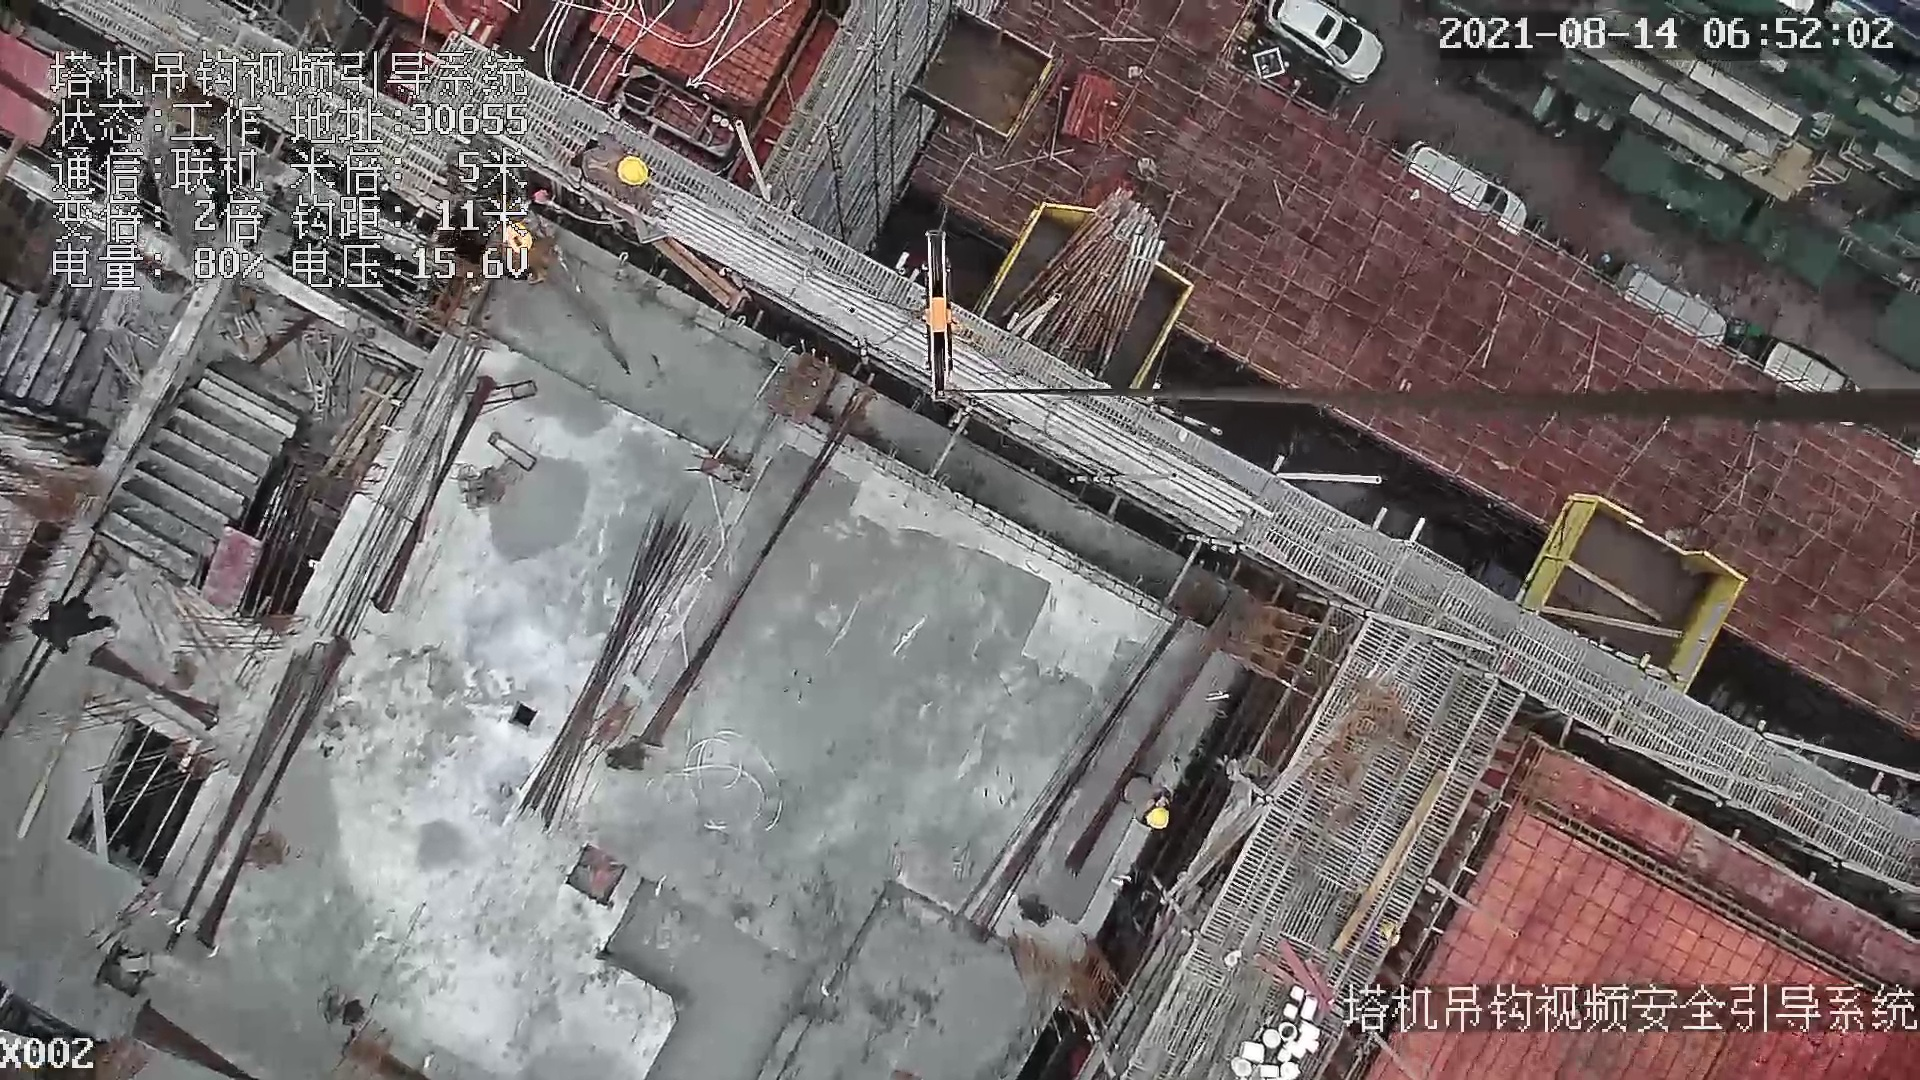helmet: (616, 154, 647, 186), (1146, 808, 1170, 829)
hook: (910, 222, 960, 396)
person: (570, 124, 665, 226), (31, 601, 117, 650), (1117, 765, 1173, 833)
rebar: (654, 191, 1272, 543), (517, 512, 712, 829)
scaffold: (1006, 189, 1162, 380)
